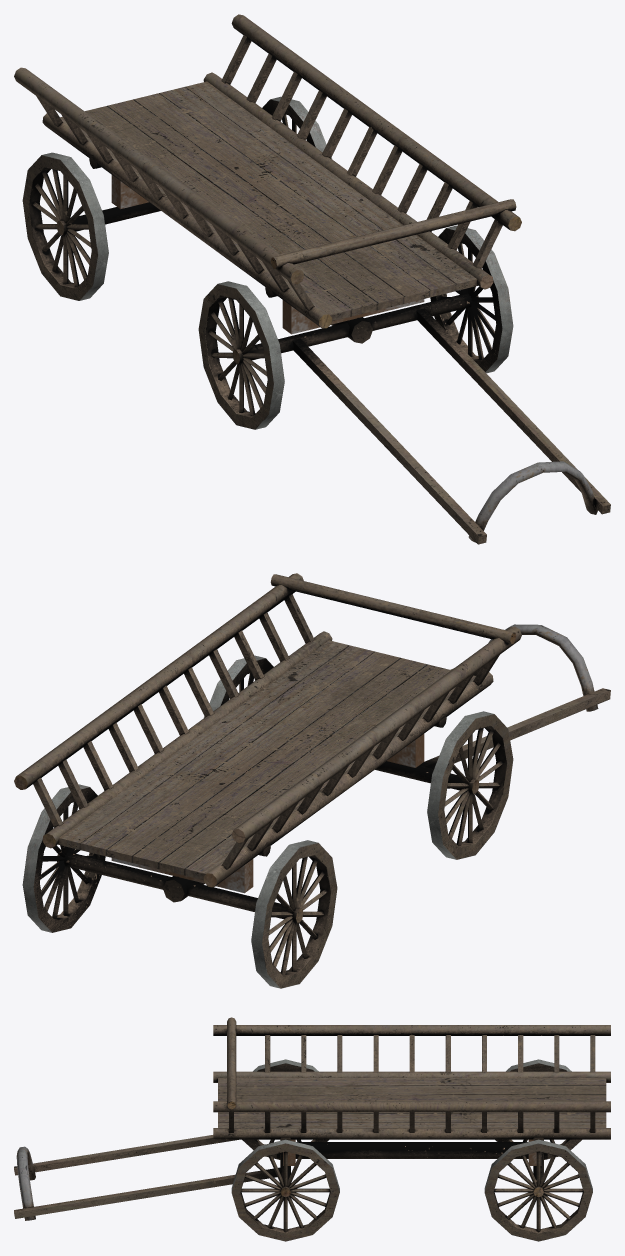
Rendered from farmer_cart.FBX.
3 renders of one model, top to bottom at view 1: azimuth 30°, elevation 25°; view 2: azimuth 150°, elevation 25°; view 3: azimuth 270°, elevation 25°, orthographic. The views are drawn at different scales.
Visible parts, largest first — view 1: Platform, Railings, Wheels_Circles, Rails, Wheels, Box006, Wheels_Axes, Cylinder004, Arch, Springs; view 2: Platform, Railings, Wheels_Circles, Rails, Wheels, Wheels_Axes, Cylinder004, Box006, Springs, Arch, Main_Axis; view 3: Railings, Platform, Wheels_Circles, Wheels, Box006, Rails, Main_Axis, Cylinder004, Arch, Wheels_Axes.
Boxes of the visible parts, x1,y1,x2,y2 form: Platform: [60, 81, 477, 321]; Railings: [14, 14, 521, 328]; Wheels_Circles: [22, 96, 513, 429]; Rails: [36, 35, 502, 310]; Wheels: [32, 114, 495, 415]; Box006: [292, 308, 610, 544]; Wheels_Axes: [56, 202, 478, 363]; Cylinder004: [270, 199, 516, 268]; Arch: [468, 461, 597, 542]; Springs: [111, 175, 424, 334]; Platform: [58, 640, 475, 880]; Railings: [14, 573, 521, 887]; Wheels_Circles: [22, 655, 513, 988]; Rails: [33, 593, 499, 869]; Wheels: [40, 673, 503, 974]; Wheels_Axes: [57, 761, 479, 922]; Cylinder004: [270, 574, 516, 643]; Box006: [419, 668, 610, 769]; Springs: [111, 734, 424, 893]; Arch: [473, 624, 598, 711]; Main_Axis: [163, 876, 204, 902]; Railings: [213, 1025, 610, 1139]; Platform: [218, 1078, 606, 1127]; Wheels_Circles: [231, 1059, 592, 1241]; Wheels: [241, 1071, 583, 1232]; Box006: [14, 1135, 282, 1218]; Rails: [229, 1035, 595, 1132]; Main_Axis: [276, 1142, 547, 1158]; Cylinder004: [227, 1017, 236, 1109]; Arch: [16, 1146, 35, 1220]; Wheels_Axes: [280, 1140, 543, 1197].
Size of the model in its own units: 110 by 86.08 by 330.
